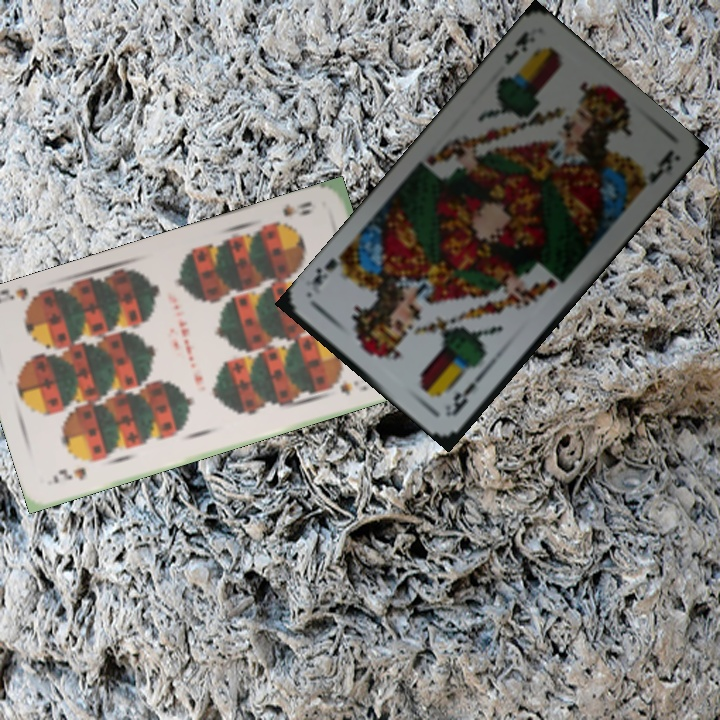EK: (448, 368, 487, 419), (500, 26, 532, 68)
S9: (268, 197, 315, 232), (49, 463, 89, 486)
